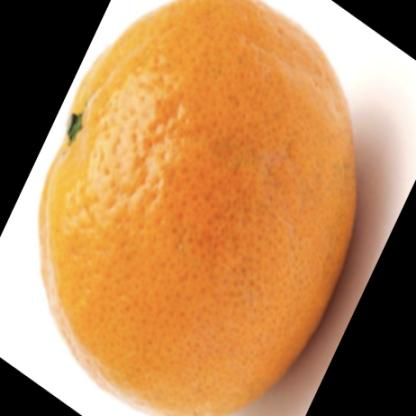fresh: (41, 1, 358, 416)
